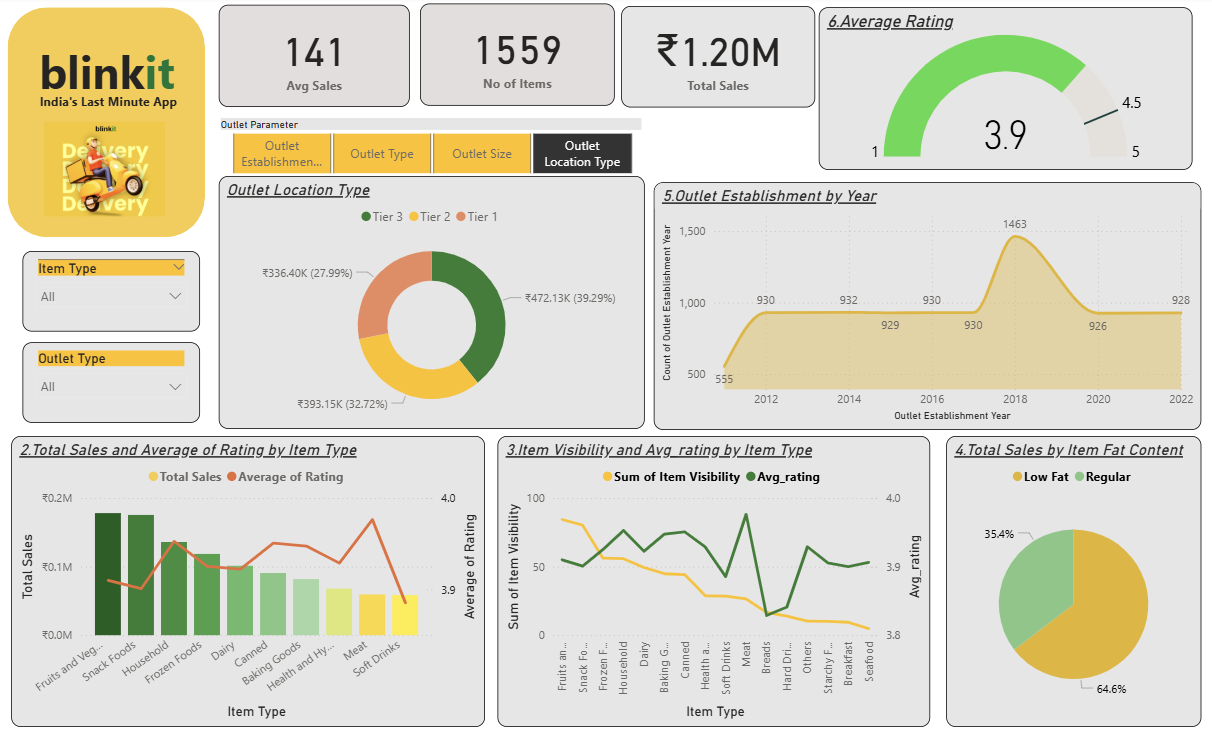

What the dashboard file says about the page in this screenshot:
{"tool":"powerbi","page":{"name":"Page 1","canvas":[1300,800],"ordinal":0},"visuals":[{"type":"shape","box":[8,12.1,211.8,246.7],"z":0},{"type":"textbox","box":[26.8,42.9,175.6,77.7],"z":1000},{"type":"textbox","box":[37.5,99.2,194.4,40.2],"z":2000},{"type":"gauge","title":"6.Average Rating","fields":{"Y":["BlinkIT Grocery Data.Avg_rating"]},"box":[878,12.1,400.8,174.3],"z":3000},{"type":"card","fields":{"Values":["BlinkIT Grocery Data.Avg Sales"]},"box":[234.6,9.4,205.1,109.9],"z":4000},{"type":"card","fields":{"Values":["BlinkIT Grocery Data.No of Items"]},"box":[450.4,8,209.1,109.9],"z":5000},{"type":"card","fields":{"Values":["BlinkIT Grocery Data.Total Sales"]},"box":[666.2,10.7,207.8,108.6],"z":6000},{"type":"pieChart","title":"4.Total Sales by Item Fat Content","fields":{"Category":["BlinkIT Grocery Data.Item Fat Content"],"Y":["BlinkIT Grocery Data.Total Sales"]},"box":[1014.8,471.9,273.5,312.3],"z":7000},{"type":"lineClusteredColumnComboChart","title":"2.Total Sales and Average of Rating by Item Type","fields":{"Category":["BlinkIT Grocery Data.Item Type"],"Y":["BlinkIT Grocery Data.Total Sales"],"Y2":["Avg(BlinkIT Grocery Data.Rating)"]},"box":[12.1,471.9,508,312.3],"z":8000},{"type":"areaChart","title":"5.Outlet Establishment by Year","fields":{"Category":["BlinkIT Grocery Data.Outlet Establishment Year"],"Y":["CountNonNull(BlinkIT Grocery Data.Outlet Establishment Year)"]},"box":[700.4,199.3,587.6,265.2],"z":9000},{"type":"lineChart","title":"3.Item Visibility and Avg_rating by Item Type","fields":{"Category":["BlinkIT Grocery Data.Item Type"],"Y":["Sum(BlinkIT Grocery Data.Item Visibility)"],"Y2":["BlinkIT Grocery Data.Avg_rating"]},"box":[533.5,471.9,463.8,312.3],"z":10000},{"type":"slicer","fields":{"Values":["Outlet Parameter.Outlet Parameter"]},"box":[223.9,126,477.2,64.3],"z":11000},{"type":"donutChart","fields":{"Category":["BlinkIT Grocery Data.Outlet Location Type"],"Y":["BlinkIT Grocery Data.Total Sales"]},"box":[234.4,193.4,457.2,271.1],"z":12000},{"type":"slicer","fields":{"Values":["BlinkIT Grocery Data.Item Type"]},"box":[23.8,273.6,190.3,86.3],"z":13000},{"type":"slicer","fields":{"Values":["BlinkIT Grocery Data.Outlet Type"]},"box":[23.8,371.8,190.3,86.3],"z":14000},{"type":"image","box":[23.8,129.4,175.5,111.5],"z":15000}]}

Visuals, with their boxes in screenshot pixels (x1, y1, x2, y2), scaled from the page's 1300x800 canvas onto the 1212x736 screenshot:
shape: [left=7, top=11, right=205, bottom=238]
textbox: [left=25, top=39, right=189, bottom=111]
textbox: [left=35, top=91, right=216, bottom=128]
"6.Average Rating" gauge: [left=819, top=11, right=1192, bottom=171]
card - BlinkIT Grocery Data.Avg Sales: [left=219, top=9, right=410, bottom=110]
card - BlinkIT Grocery Data.No of Items: [left=420, top=7, right=615, bottom=108]
card - BlinkIT Grocery Data.Total Sales: [left=621, top=10, right=815, bottom=110]
"4.Total Sales by Item Fat Content" pieChart: [left=946, top=434, right=1201, bottom=721]
"2.Total Sales and Average of Rating by Item Type" lineClusteredColumnComboChart: [left=11, top=434, right=485, bottom=721]
"5.Outlet Establishment by Year" areaChart: [left=653, top=183, right=1201, bottom=427]
"3.Item Visibility and Avg_rating by Item Type" lineChart: [left=497, top=434, right=930, bottom=721]
slicer - Outlet Parameter.Outlet Parameter: [left=209, top=116, right=654, bottom=175]
donutChart - BlinkIT Grocery Data.Outlet Location Type x BlinkIT Grocery Data.Total Sales: [left=219, top=178, right=645, bottom=427]
slicer - BlinkIT Grocery Data.Item Type: [left=22, top=252, right=200, bottom=331]
slicer - BlinkIT Grocery Data.Outlet Type: [left=22, top=342, right=200, bottom=421]
image: [left=22, top=119, right=186, bottom=222]
